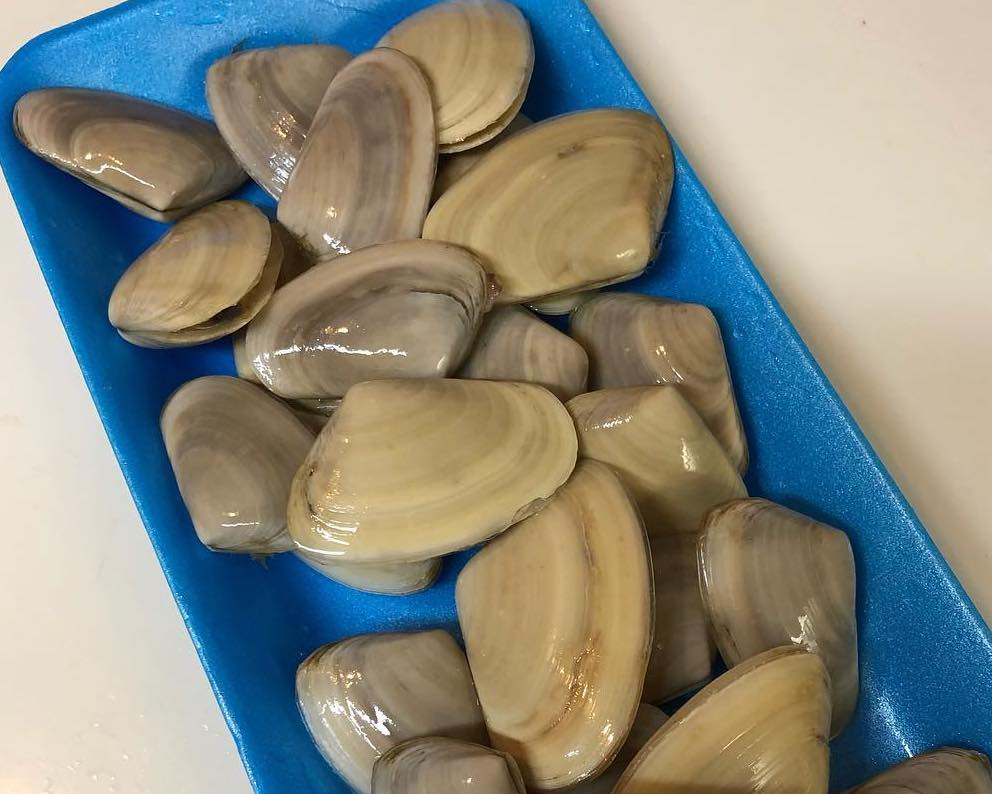tuatua: (449, 450, 659, 794), (282, 373, 581, 566), (414, 99, 679, 308), (693, 495, 874, 745), (237, 232, 493, 404), (606, 636, 839, 794), (566, 286, 753, 482), (275, 45, 439, 259), (287, 621, 486, 794), (8, 82, 248, 221), (154, 373, 316, 562), (564, 381, 754, 536), (103, 195, 283, 352), (369, 1, 537, 158), (203, 40, 353, 203), (639, 512, 716, 711), (460, 302, 596, 404), (368, 729, 523, 794), (852, 742, 979, 794)
